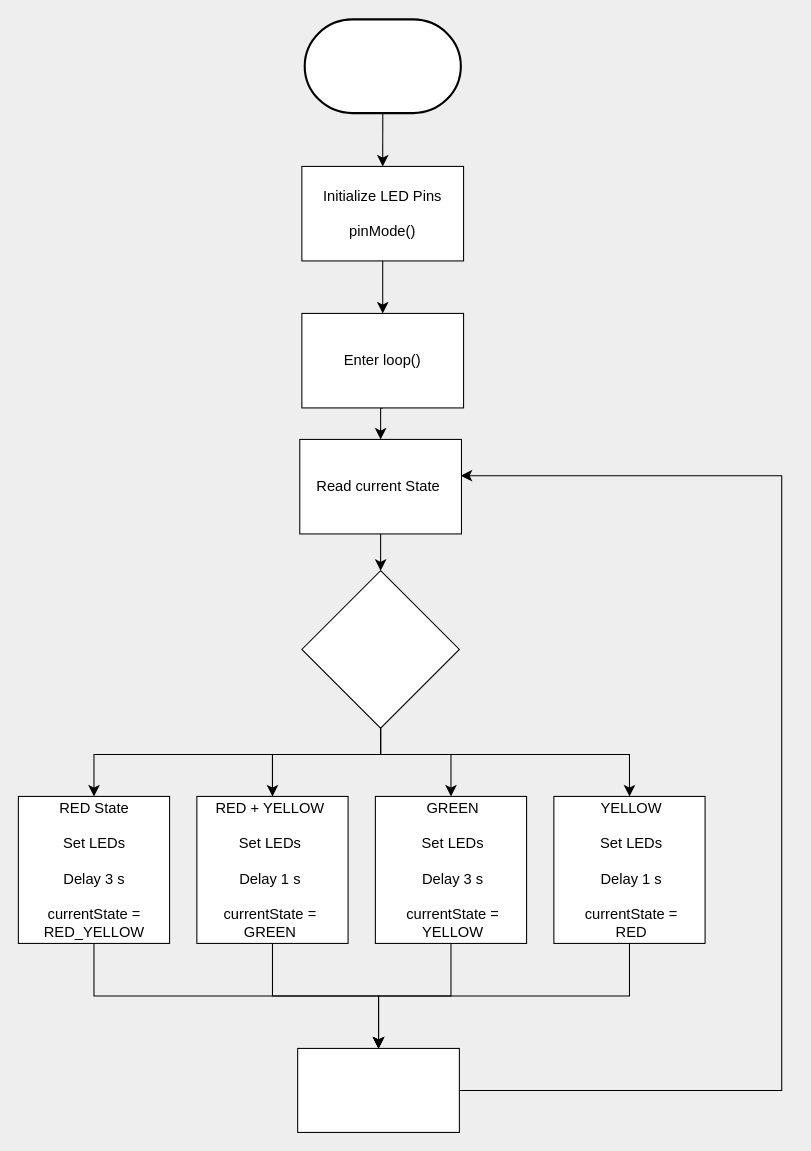
This 811x1151 diagram has some shape labels left out. The box of each missing label's shape, as (x1, y1, x2, y2) in pixels:
Repeat loop(): (297, 1047, 459, 1132)
START: (303, 18, 461, 114)
switch(current State): (301, 570, 459, 728)
